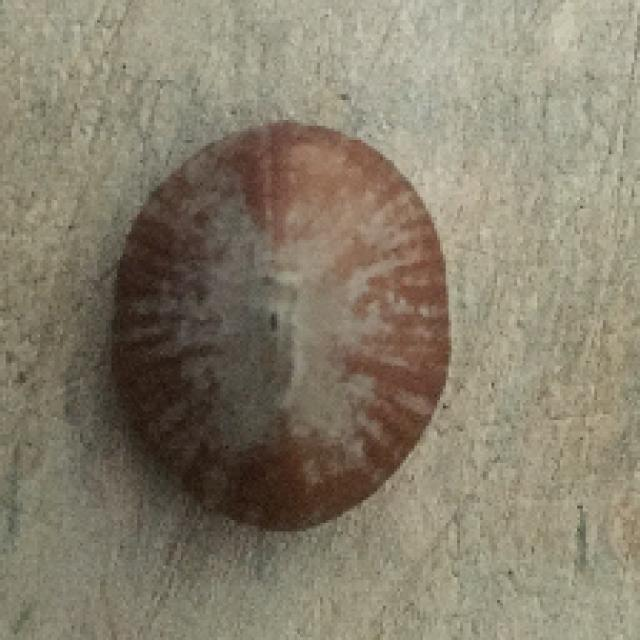qualityHazelnut: (117, 123, 452, 535)
